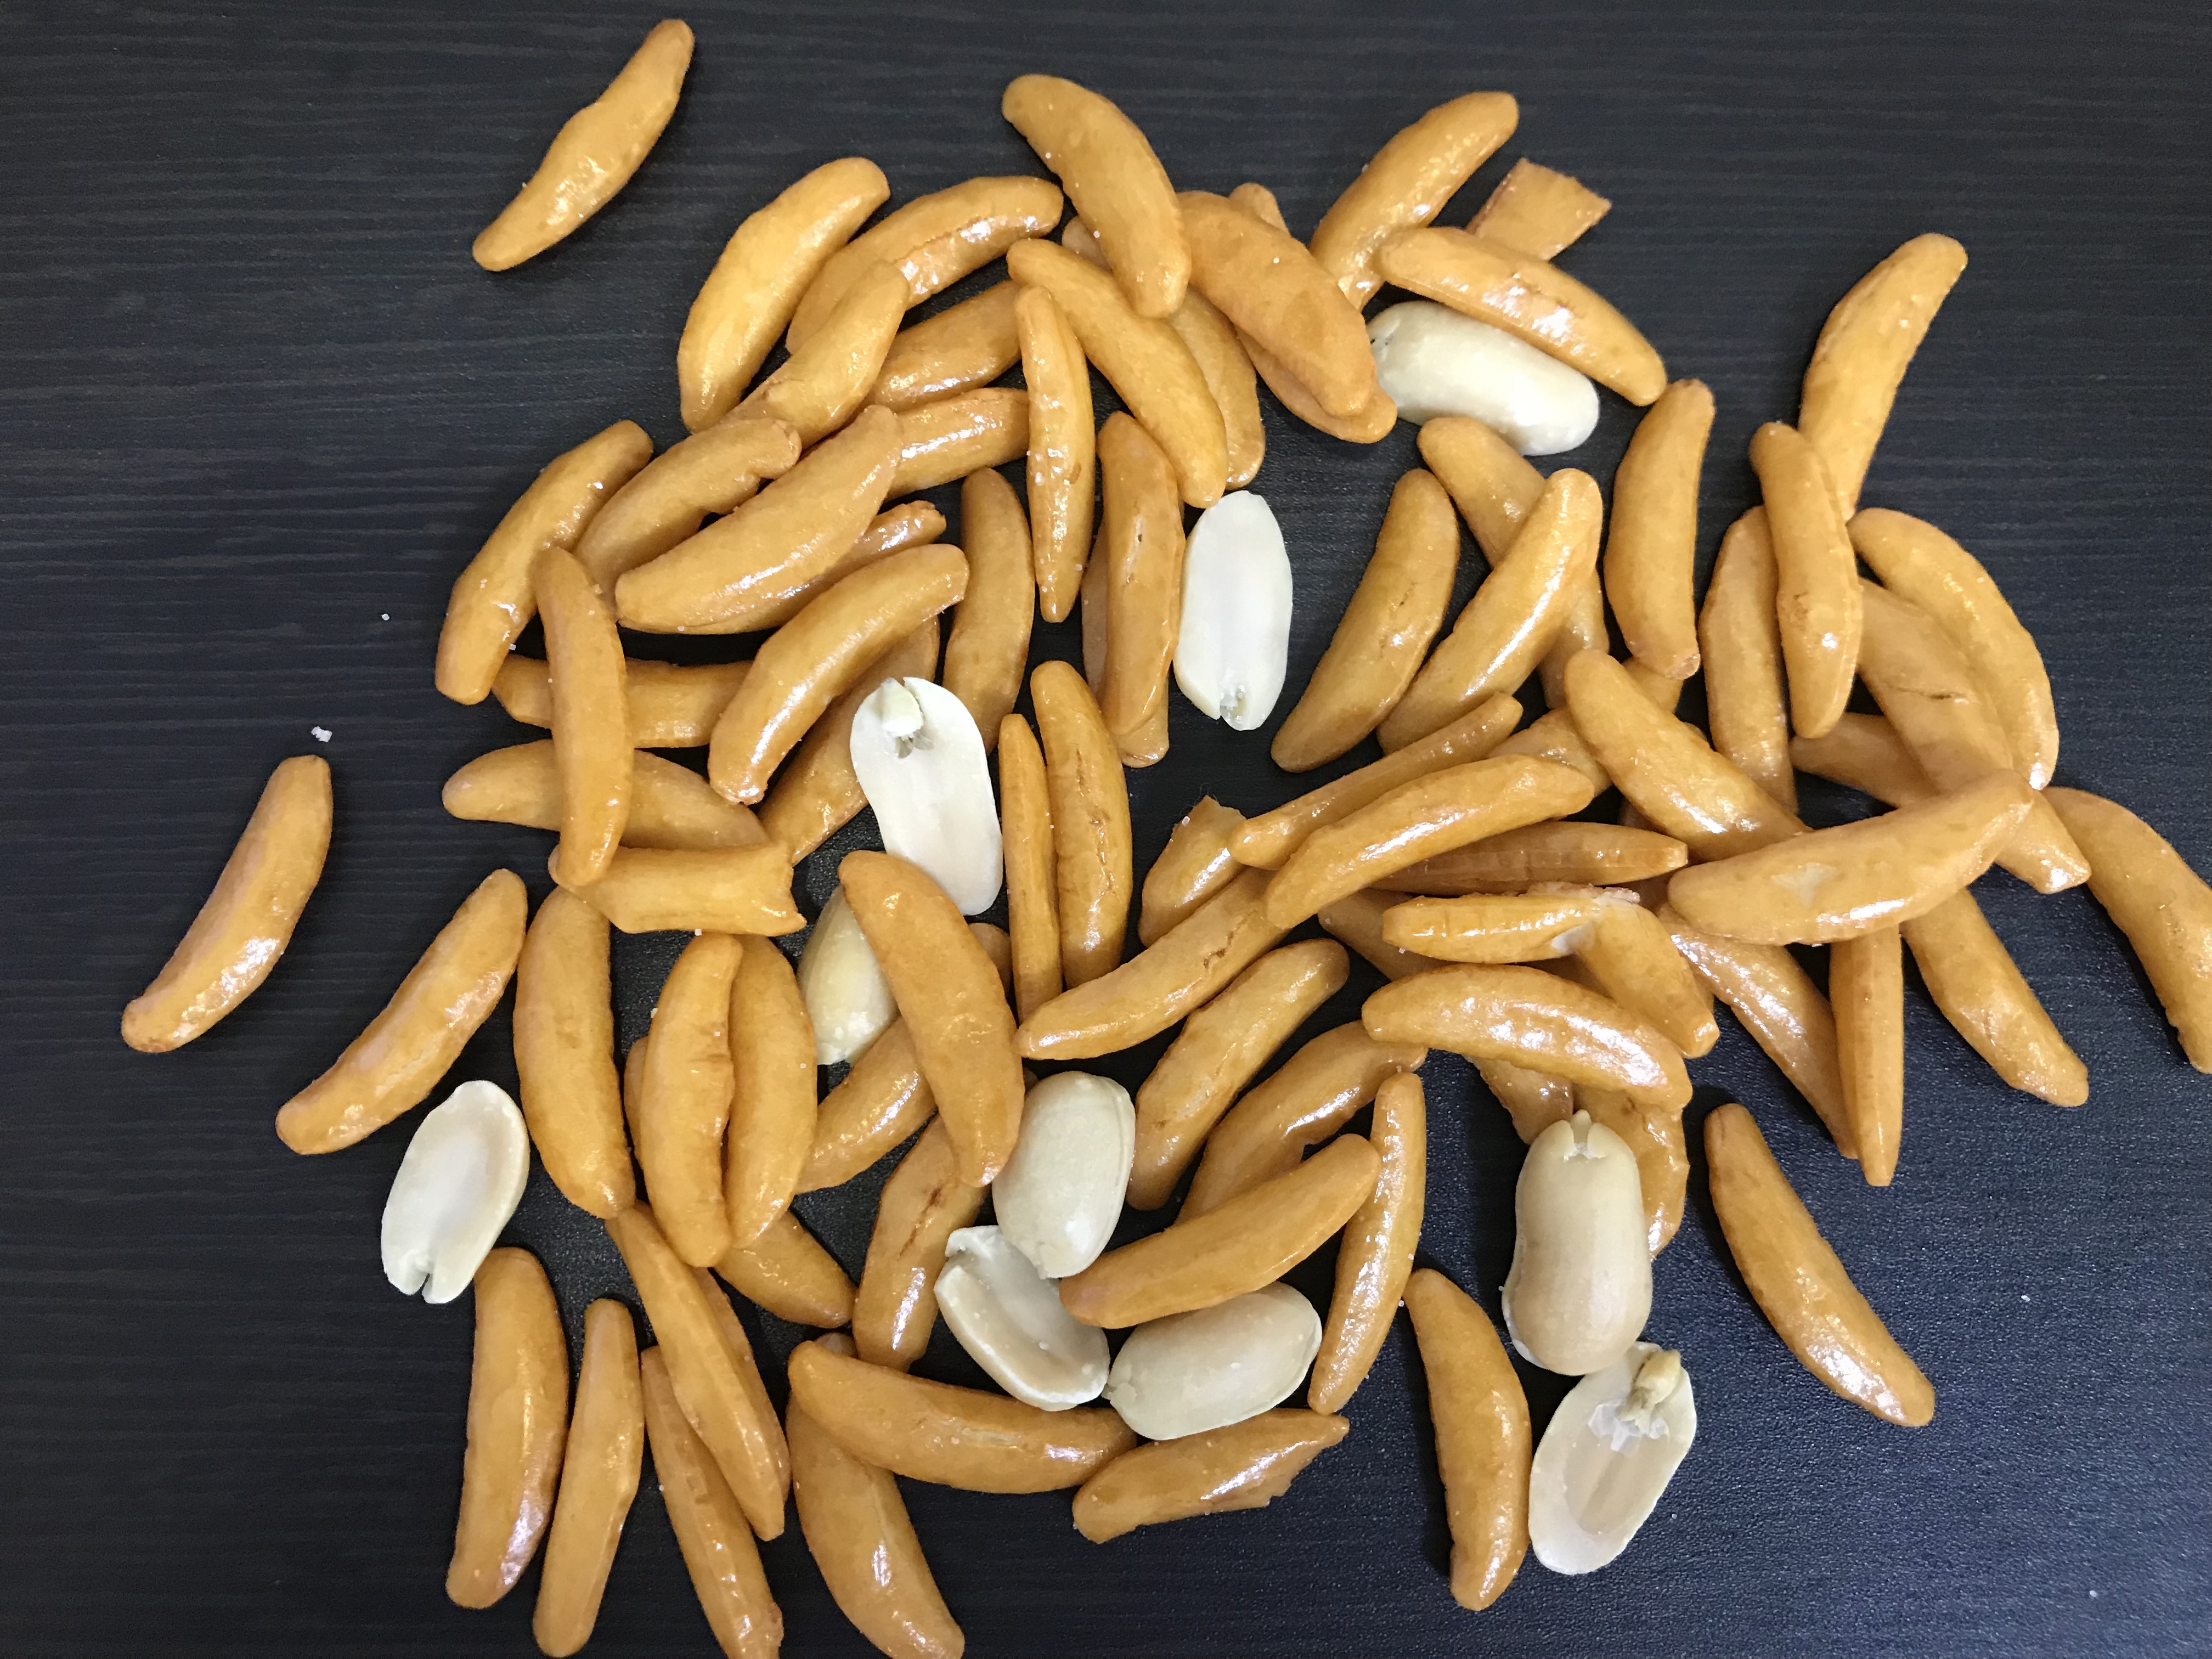peanut: (843, 667, 1010, 924), (1498, 1110, 1656, 1377), (1526, 1337, 1698, 1577), (1355, 298, 1608, 460), (374, 1075, 542, 1302), (1111, 1279, 1322, 1436), (984, 1066, 1136, 1279), (935, 1222, 1109, 1406), (1169, 488, 1291, 734), (798, 871, 902, 1056)
